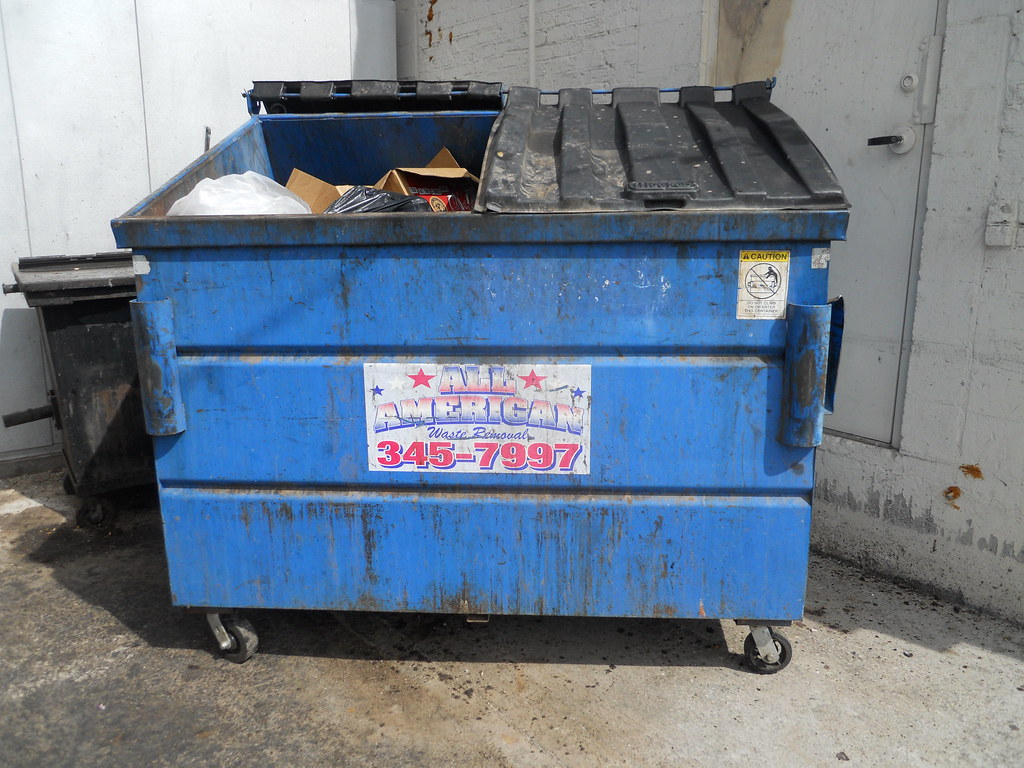Dumpster: (98, 75, 858, 689)
